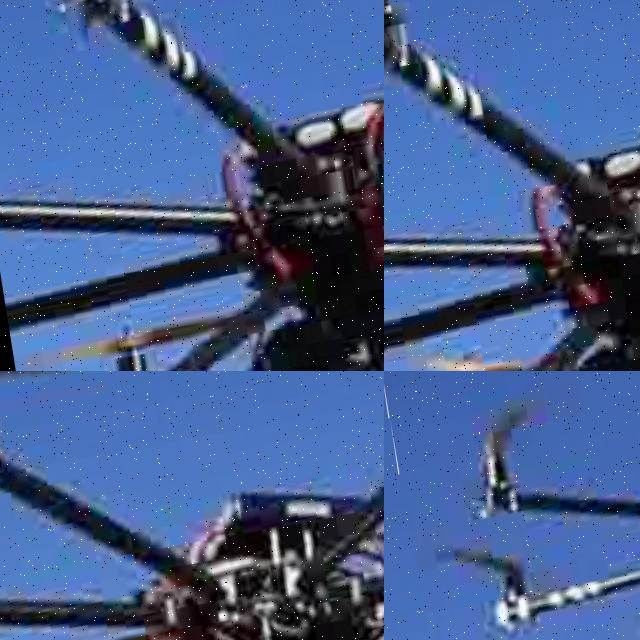drone: (0, 0, 384, 371), (0, 371, 384, 640), (384, 0, 640, 371), (384, 371, 640, 640)
